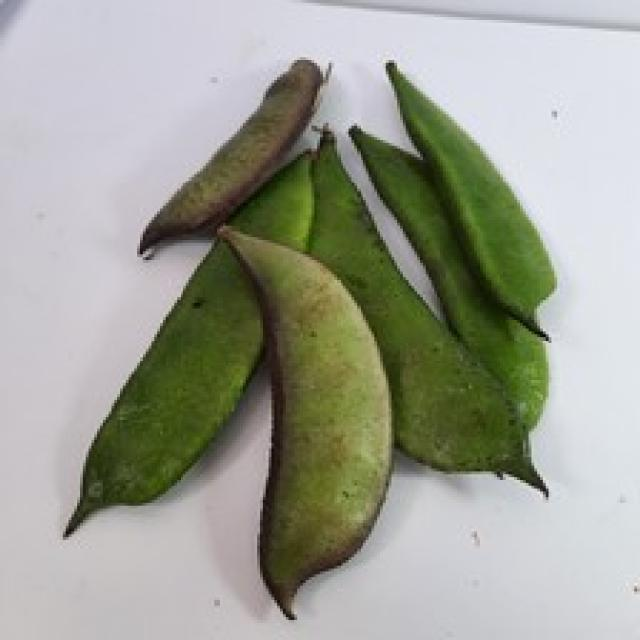Bean: (60, 54, 554, 617), (214, 220, 394, 620), (383, 57, 554, 337), (134, 54, 326, 257)
